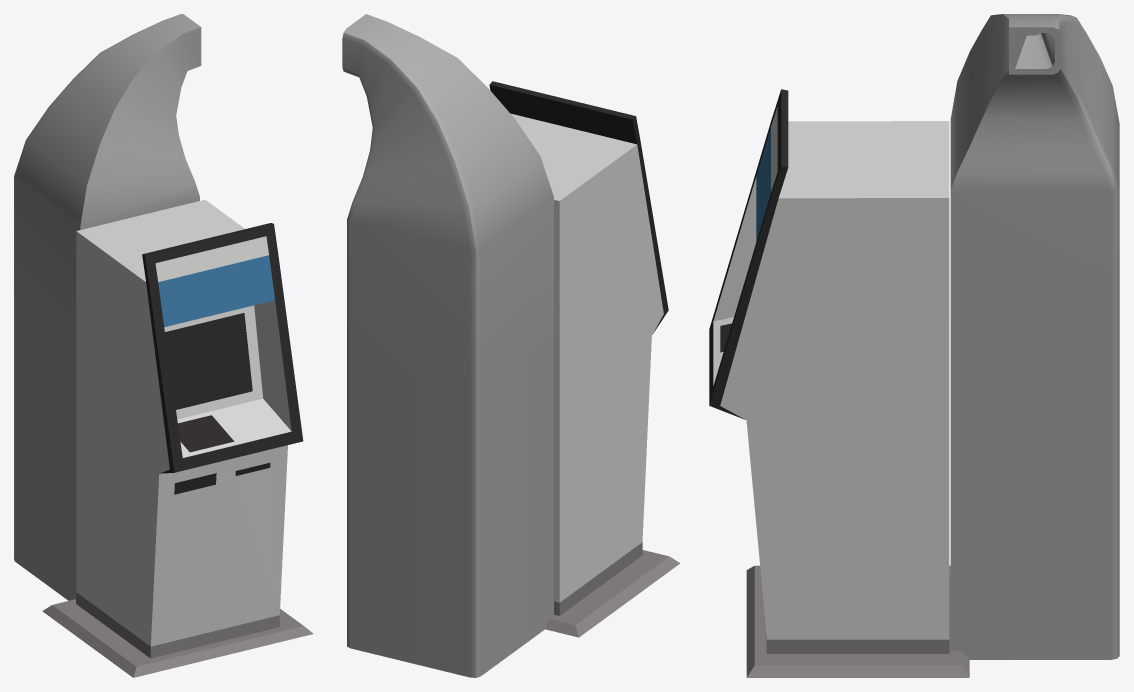
The model's file is ATM.fbx.
3 renders of one model, left to right at view 1: azimuth 30°, elevation 25°; view 2: azimuth 150°, elevation 25°; view 3: azimuth 270°, elevation 25°, orthographic. The views are drawn at different scales.
Visible parts, largest first — view 1: atm-mechine.fbx, pCube1; view 2: pCube1, atm-mechine.fbx; view 3: atm-mechine.fbx, pCube1.
Part boxes in pixels (box(x1,y1,x2,y2)): atm-mechine.fbx: box(42, 199, 313, 677); pCube1: box(14, 14, 201, 600); pCube1: box(342, 14, 553, 677); atm-mechine.fbx: box(489, 81, 680, 637); atm-mechine.fbx: box(709, 89, 969, 677); pCube1: box(950, 14, 1119, 659).
Size of the model in its own units: 80 by 224 by 129.
